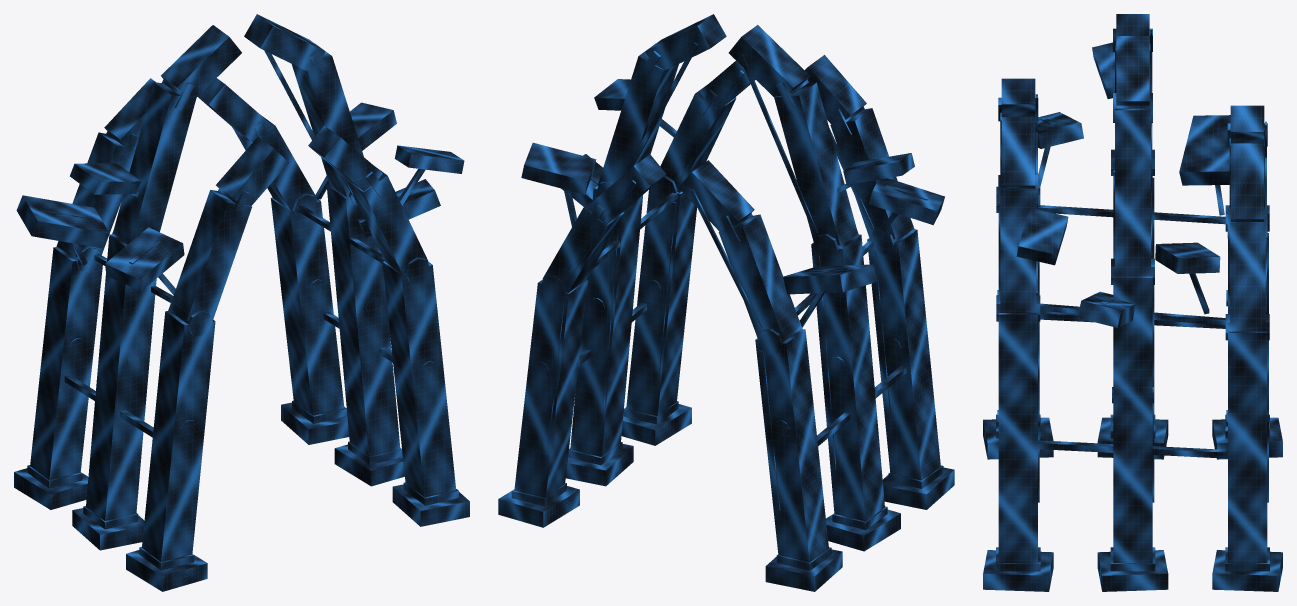
File: Titan_Gate_Frame.glb
3 views of the same model, side by side, from view 1: azimuth 30°, elevation 25°; view 2: azimuth 150°, elevation 25°; view 3: azimuth 270°, elevation 25° (orthographic). The views are drawn at different scales.
Parts seen in each view (by area): view 1: Titan_Gate_Frame; view 2: Titan_Gate_Frame; view 3: Titan_Gate_Frame.
Part boxes in pixels (left/top/right/bottom): Titan_Gate_Frame: left=14, top=14, right=469, bottom=591; Titan_Gate_Frame: left=498, top=14, right=954, bottom=591; Titan_Gate_Frame: left=983, top=14, right=1282, bottom=591.
Size of the model in its own units: 1.59 by 2 by 1.11.
Materials: 1 (1 with a texture image).
